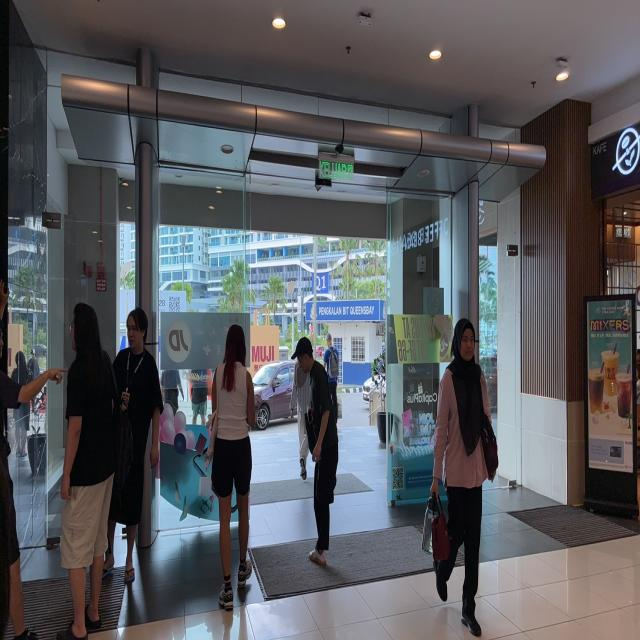door: (244, 166, 391, 520)
